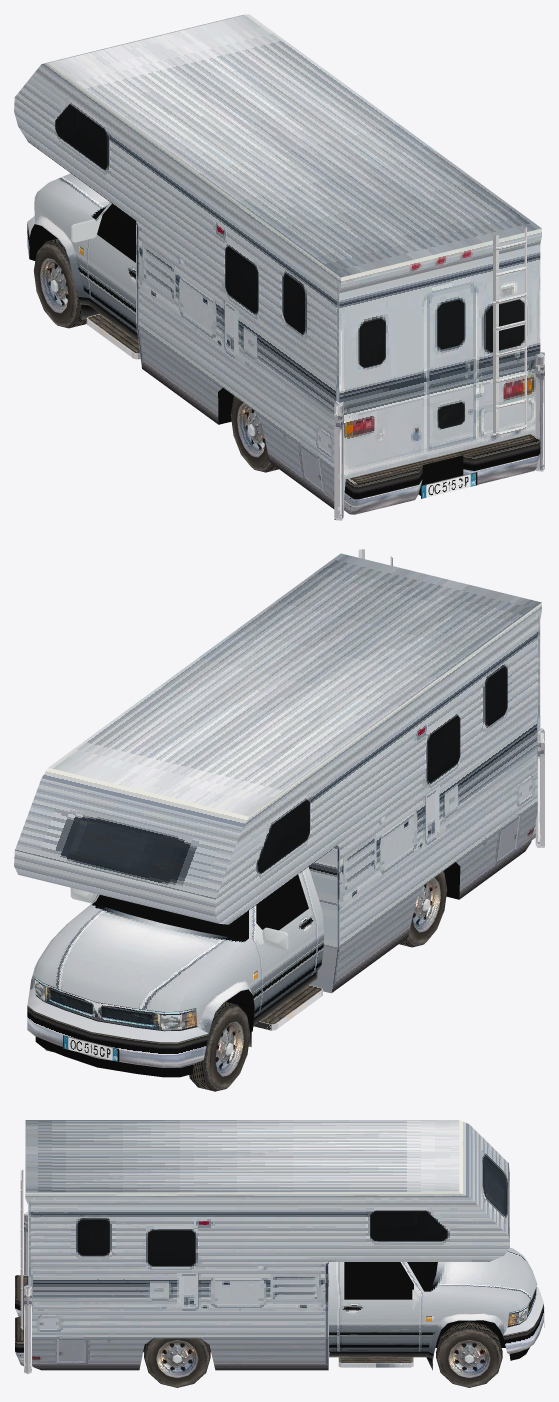
File: othcar-03.glb
3 renders of one model, top to bottom at view 1: azimuth 30°, elevation 25°; view 2: azimuth 150°, elevation 25°; view 3: azimuth 270°, elevation 25°, orthographic. The views are drawn at different scales.
Visible parts, largest first — view 1: body, wheel RL, wheel FL; view 2: body, wheel RL, wheel FL; view 3: body, wheel RR, wheel FR.
Part boxes in pixels (x1,y1,x2,y2): body: (14,14,544,520); wheel RL: (33,238,86,328); wheel FL: (230,396,278,472); body: (14,549,544,1077); wheel RL: (189,1002,250,1091); wheel FL: (399,871,447,947); body: (15,1120,544,1373); wheel RR: (436,1321,502,1387); wheel FR: (144,1338,210,1387).
Size of the model in its own units: 1.95 by 2.39 by 5.58.
8 materials, 6 textured.
